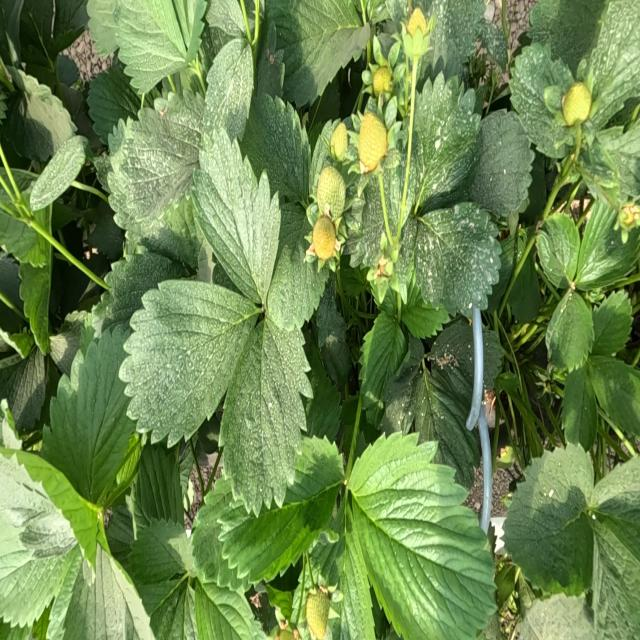Leaves: (348, 434, 495, 638), (122, 280, 255, 443), (209, 436, 343, 584), (220, 321, 309, 513), (45, 329, 135, 505), (190, 127, 280, 303), (108, 93, 202, 257), (1, 454, 81, 627), (503, 445, 594, 592), (266, 1, 368, 105), (406, 73, 479, 214), (48, 546, 155, 639), (416, 203, 500, 316), (591, 456, 639, 639), (410, 368, 480, 489), (265, 203, 327, 330), (311, 519, 375, 639), (580, 1, 639, 131), (510, 42, 575, 157), (93, 251, 182, 333), (465, 110, 534, 215), (242, 94, 309, 201), (129, 519, 195, 621), (2, 70, 75, 161), (114, 0, 186, 91), (574, 197, 639, 289), (529, 0, 604, 72), (203, 38, 254, 142), (127, 440, 183, 529), (420, 0, 486, 75), (194, 578, 268, 639), (429, 318, 474, 416), (30, 136, 90, 207), (1, 170, 48, 259), (581, 124, 639, 196), (87, 63, 139, 143), (360, 312, 407, 399), (588, 357, 639, 436), (546, 290, 594, 371), (381, 340, 422, 434), (347, 169, 386, 267), (520, 594, 599, 639), (316, 281, 350, 385), (5, 348, 46, 431), (487, 229, 527, 313), (561, 367, 598, 450), (536, 214, 579, 284), (20, 257, 51, 352), (201, 0, 248, 59), (20, 0, 61, 65), (592, 291, 632, 356), (507, 255, 540, 323), (401, 291, 449, 337), (381, 150, 406, 235), (172, 0, 206, 61), (306, 385, 341, 443), (87, 0, 118, 56), (398, 196, 417, 282), (106, 502, 134, 559), (480, 21, 508, 70), (55, 0, 88, 33), (56, 54, 78, 85)
Strawberries: (358, 112, 387, 171), (316, 166, 344, 220), (306, 589, 329, 638), (563, 84, 591, 124), (311, 217, 335, 260), (372, 66, 391, 97), (618, 202, 639, 230), (331, 123, 347, 159), (407, 9, 427, 34), (375, 258, 391, 278)
